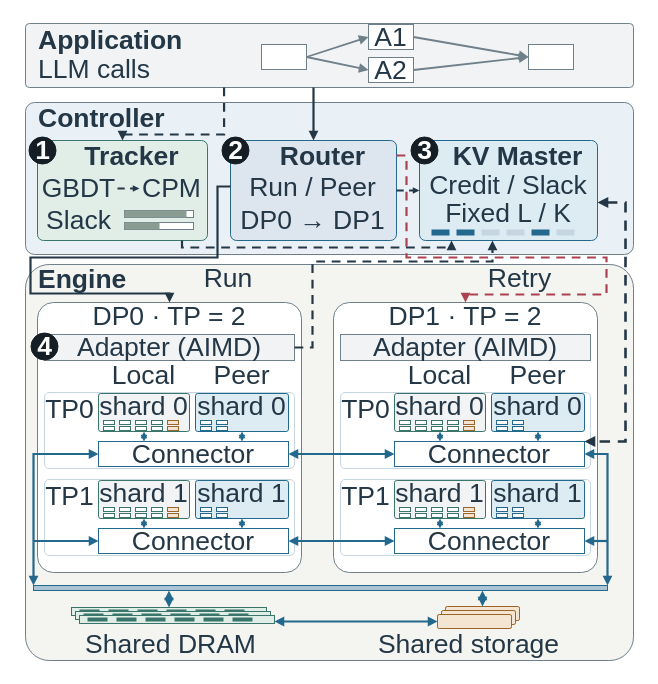
This 658x684 diagram has some shape labels left out. The centre of each missing label's shape, as x and y in pixels:
"A0" belongs at (x=283, y=57).
"A3" belongs at (x=551, y=57).
